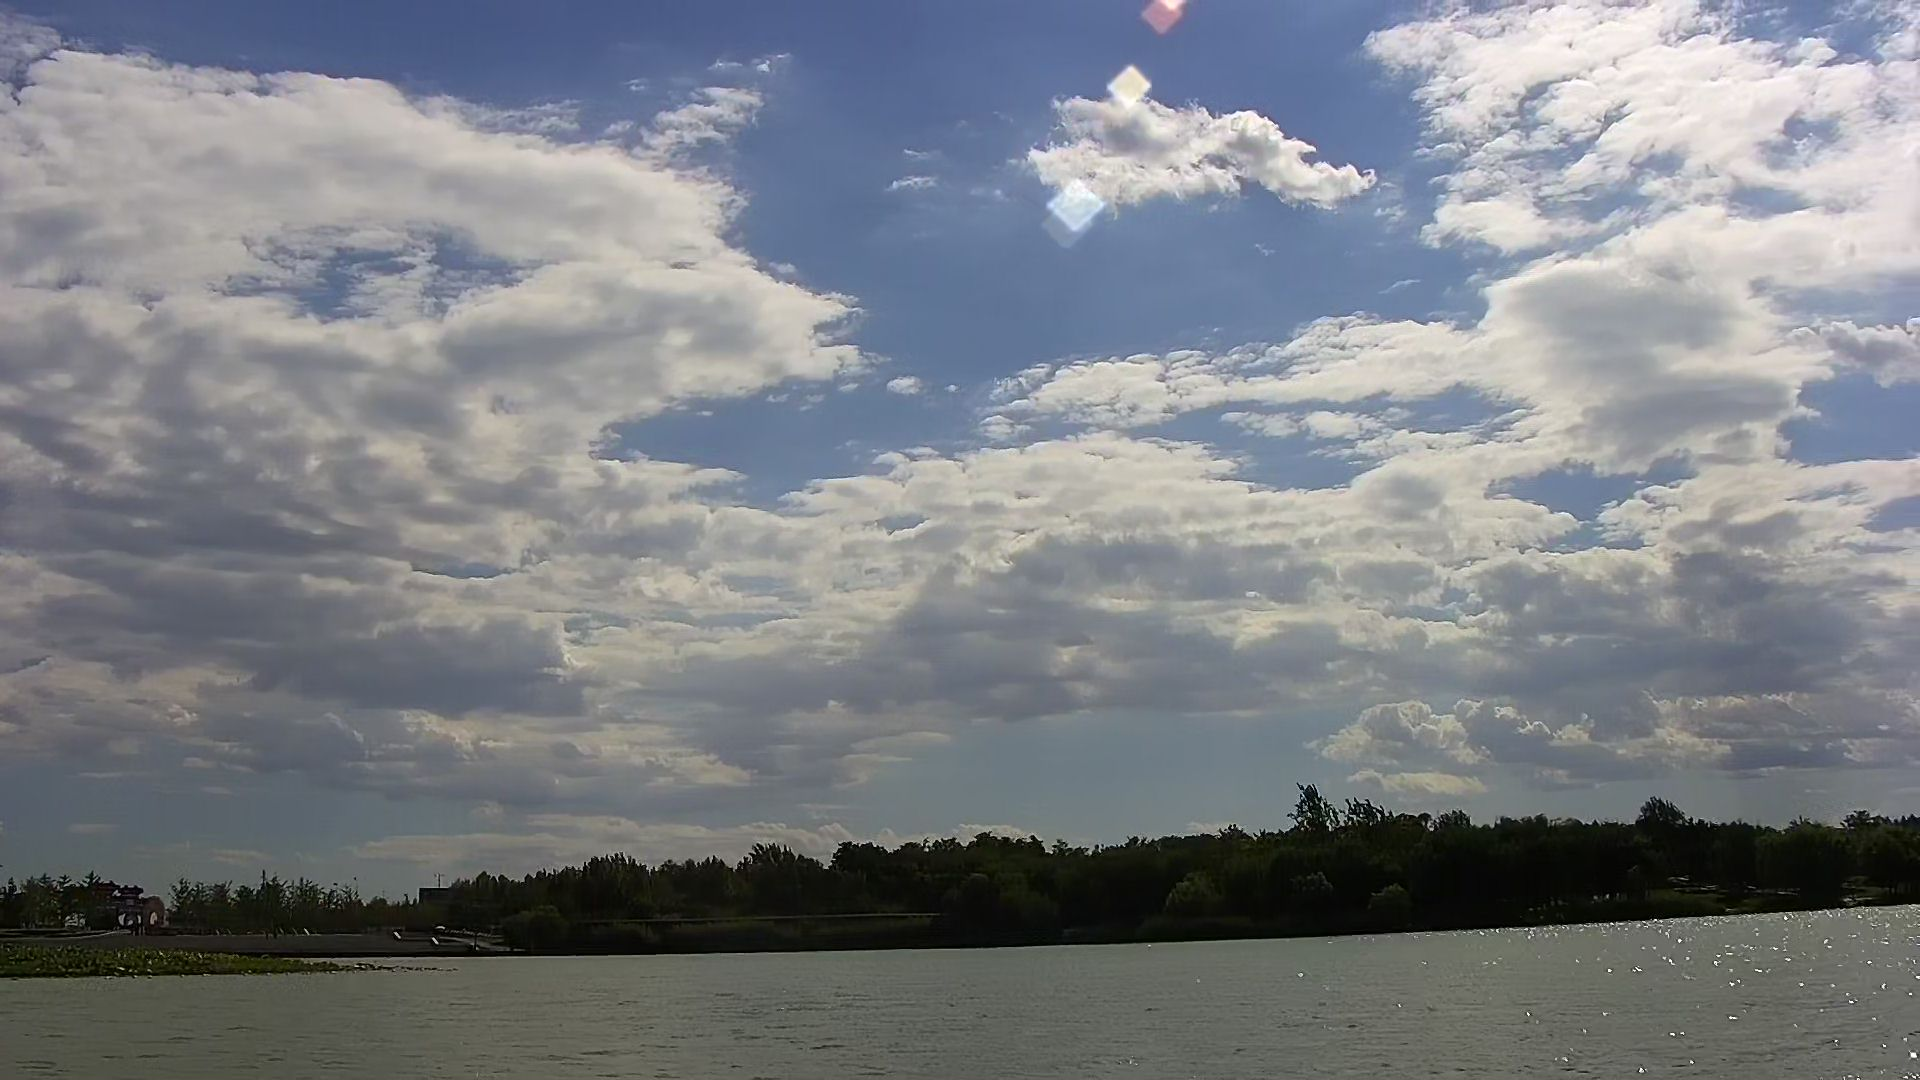harbor: (233, 930, 524, 960)
